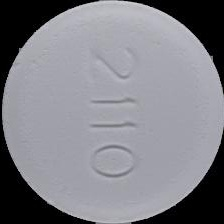68788-1737: (0, 0, 224, 224)
